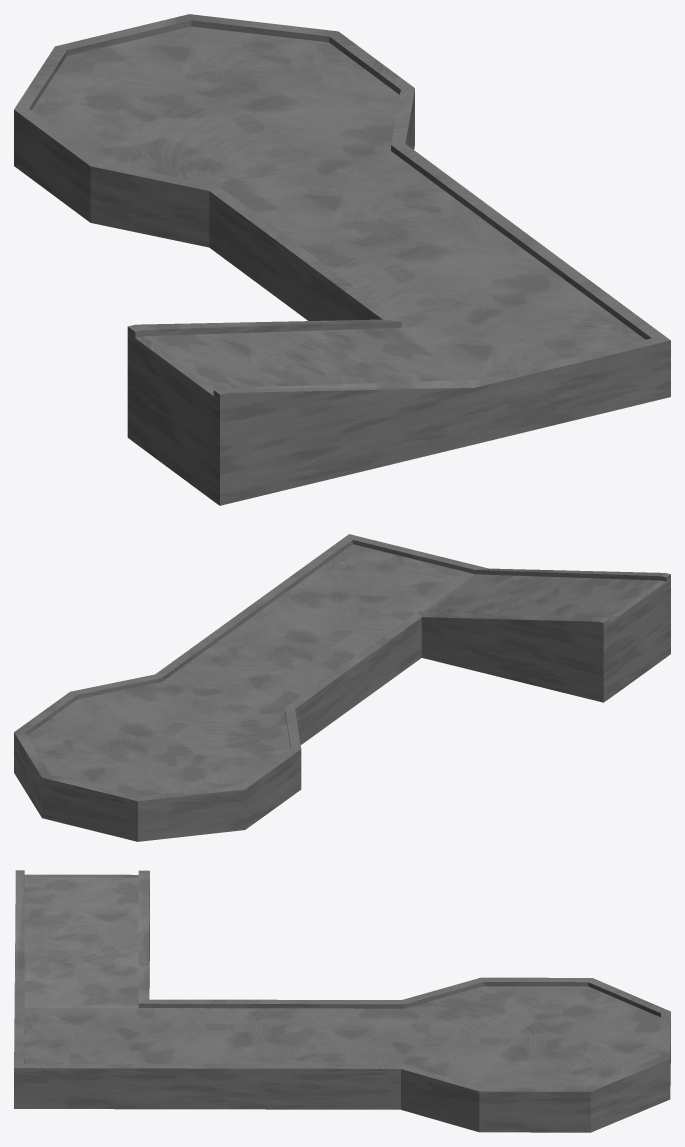
Rendered from Map_P1.fbx.
The picture shows the model from 3 angles, top to bottom: view 1: azimuth 30°, elevation 25°; view 2: azimuth 150°, elevation 25°; view 3: azimuth 270°, elevation 25°; orthographic projection. The views are drawn at different scales.
Parts seen in each view (by area): view 1: Part1G, Part1; view 2: Part1G, Part1; view 3: Part1G, Part1.
Part boxes in pixels (bbox=[...]): Part1G: bbox=[31, 26, 645, 389]; Part1: bbox=[14, 14, 670, 505]; Part1G: bbox=[27, 544, 660, 796]; Part1: bbox=[14, 534, 670, 841]; Part1G: bbox=[24, 877, 660, 1087]; Part1: bbox=[14, 870, 670, 1132].
Size of the model in its own units: 1225 by 252 by 1868.
